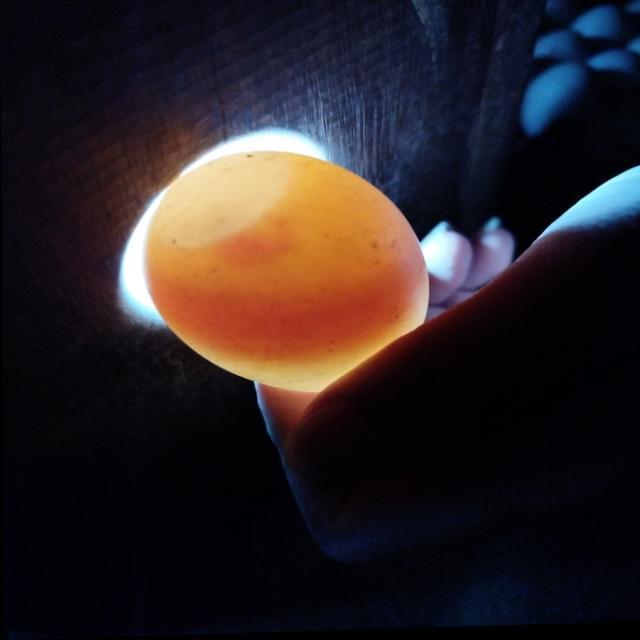Camara de Ar: (151, 153, 289, 250)
